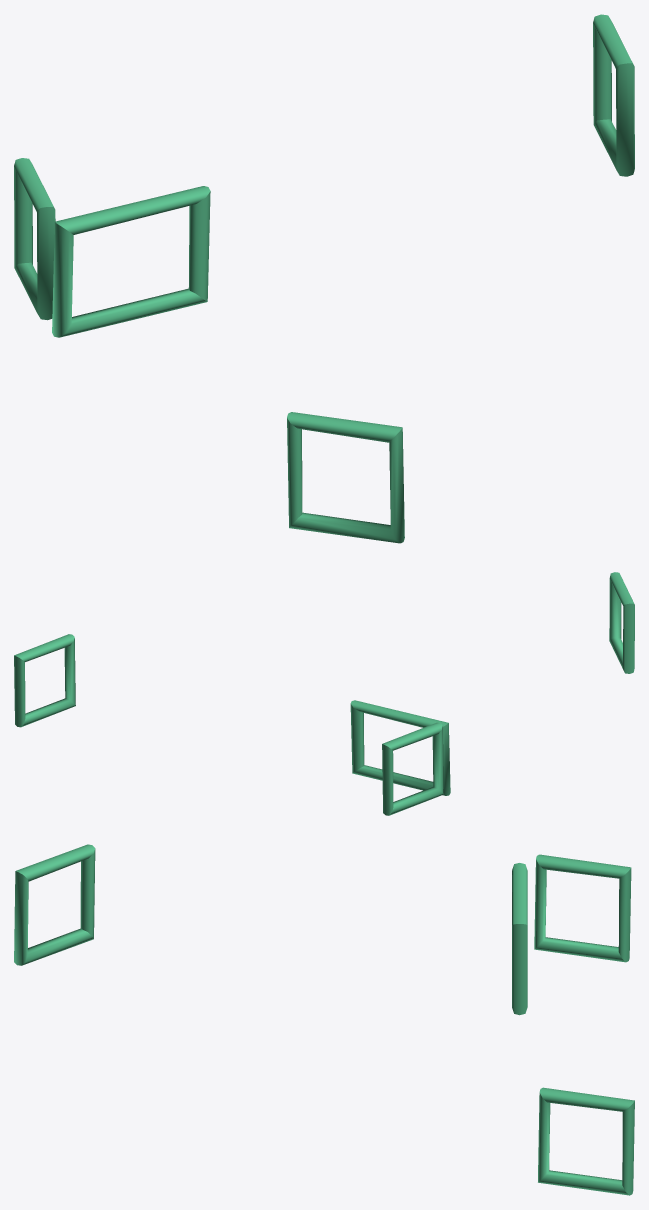
Rendered from Beam_Structure_06B_Lod0.fbx.
3 renders of one model, top to bottom at view 1: azimuth 30°, elevation 25°; view 2: azimuth 150°, elevation 25°; view 3: azimuth 270°, elevation 25°, orthographic. The views are drawn at different scales.
Visible parts, largest first — view 1: Beam_Structure_06B_Lod0; view 2: Beam_Structure_06B_Lod0; view 3: Beam_Structure_06B_Lod0.
Boxes of the visible parts, <box> form: Beam_Structure_06B_Lod0: <box>14,14,634,543</box>; Beam_Structure_06B_Lod0: <box>14,572,634,815</box>; Beam_Structure_06B_Lod0: <box>14,844,634,1195</box>.
Size of the model in its own units: 208 by 37.12 by 209.
